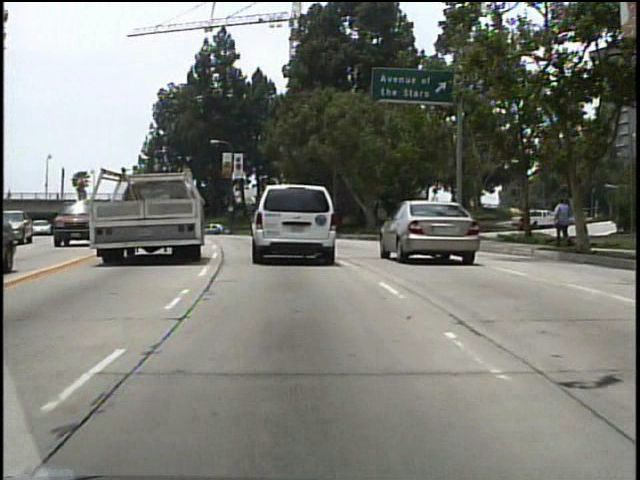person: (551, 191, 574, 250), (5, 187, 14, 205)
